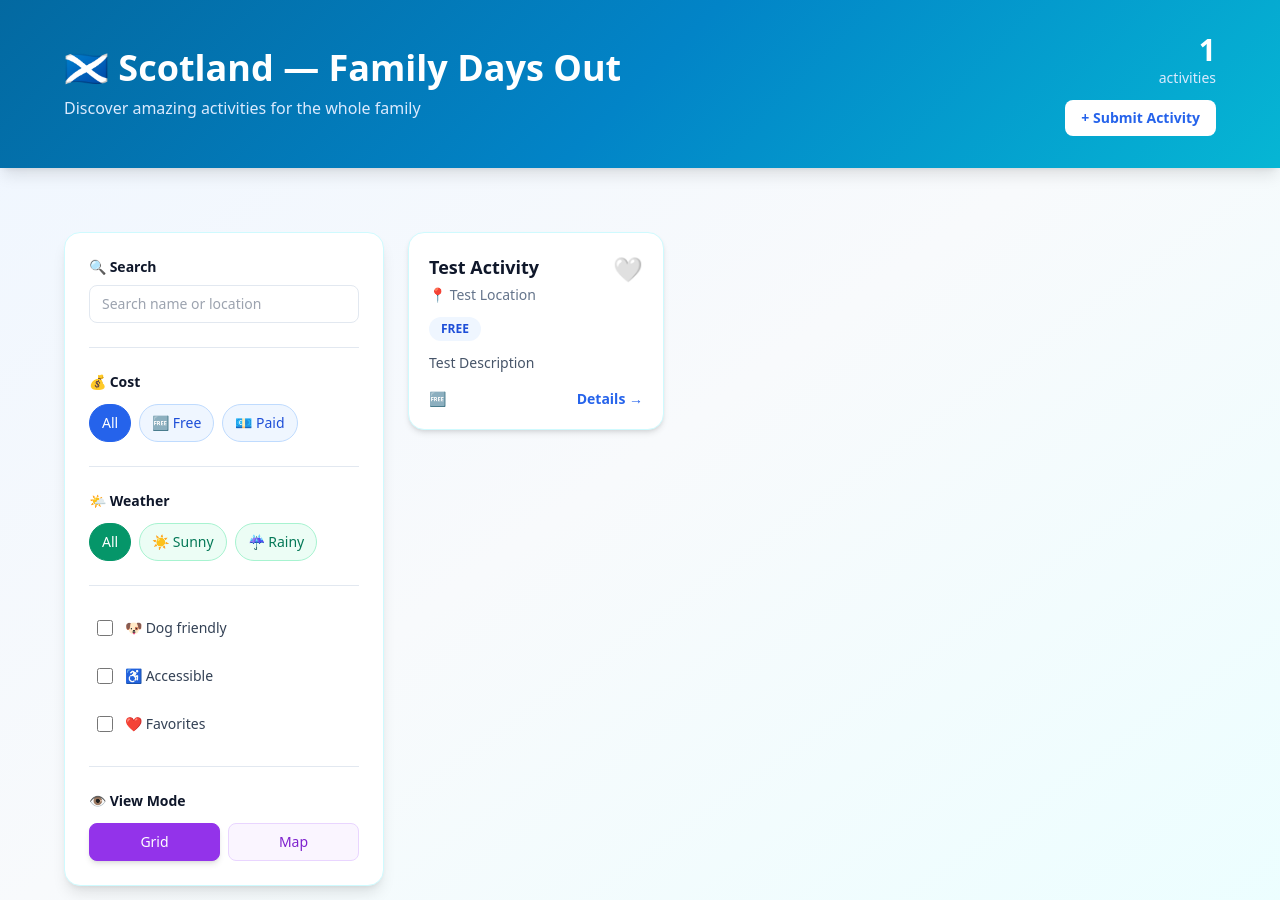
Test: ScotlandDaysOut Page › toggles favorites
Expected: the heading "Test Activity" is shown, [429,255,539,279]
Click the button "🤍" at (628, 269), box [613,253,643,285]
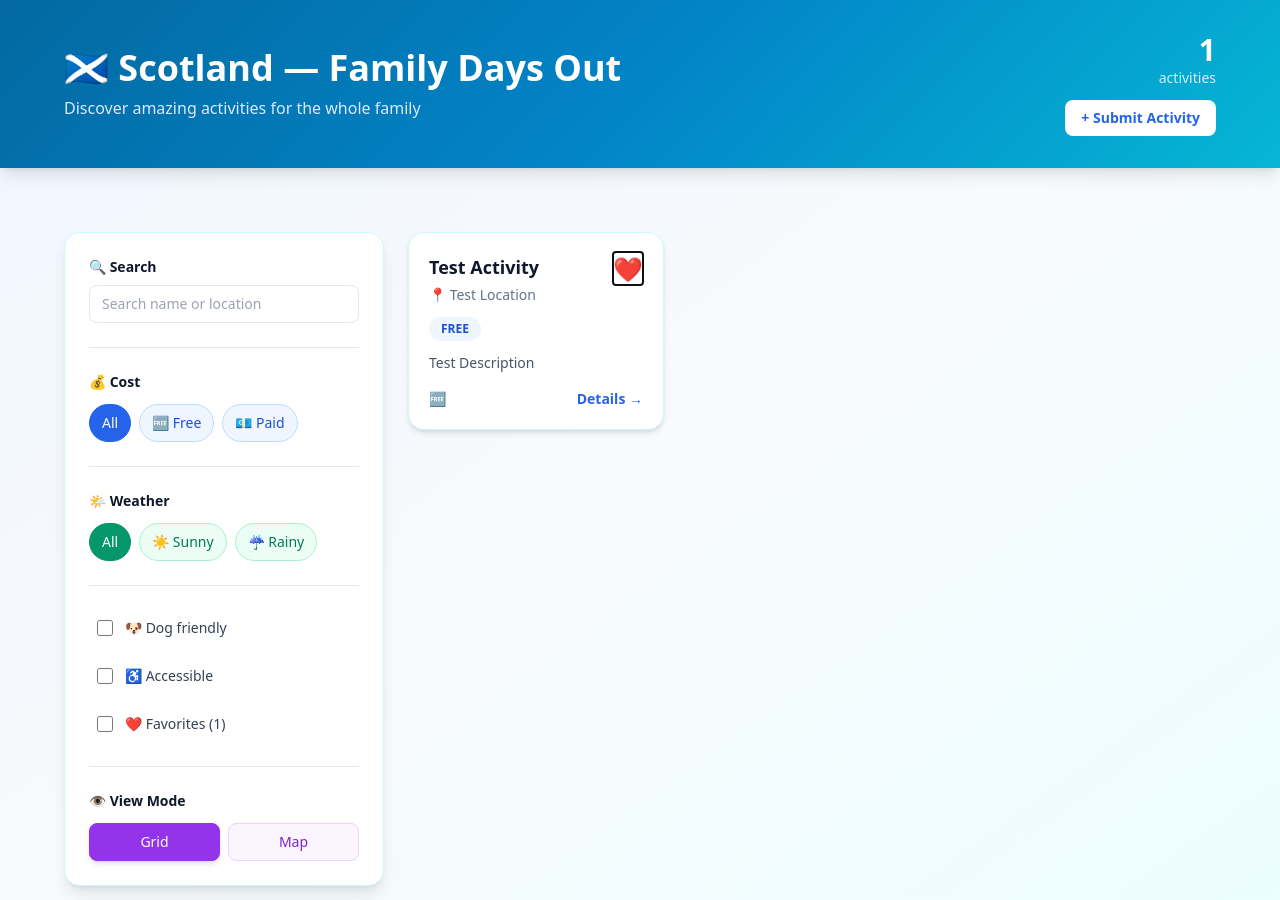
Expected: the button "❤️" is shown, [613,253,643,285]
